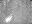person: (5, 16, 11, 22)
